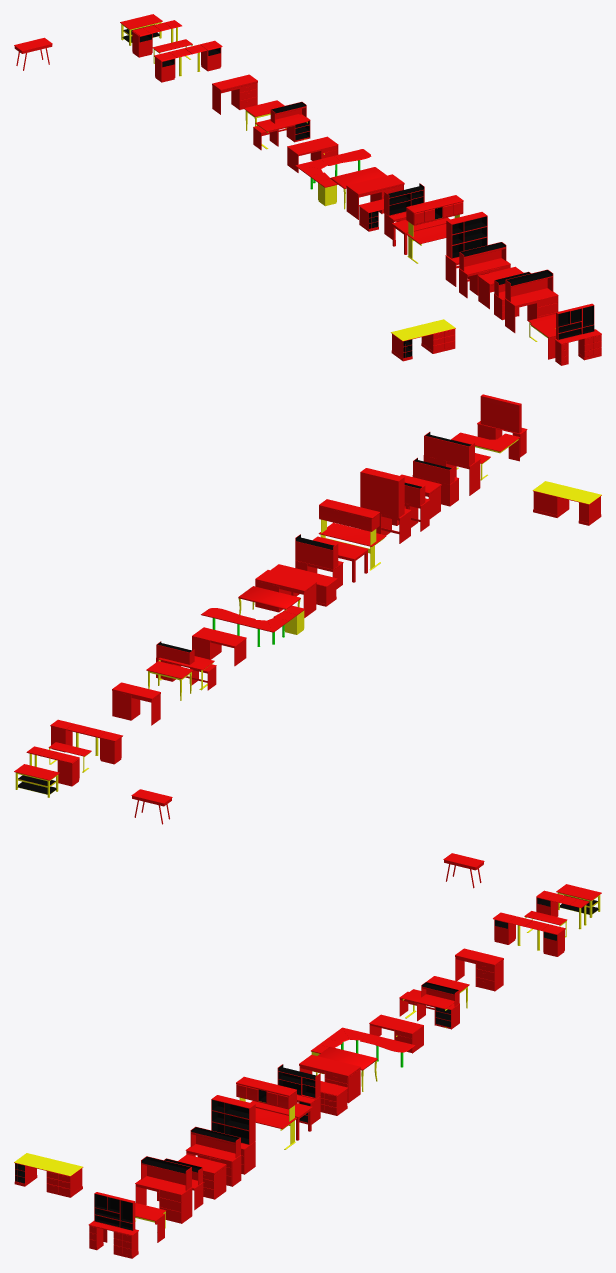
The model's file is desks_grp.fbx.
The picture shows the model from 3 angles, top to bottom: view 1: azimuth 30°, elevation 25°; view 2: azimuth 150°, elevation 25°; view 3: azimuth 330°, elevation 25°; orthographic projection. The views are drawn at different scales.
Parts seen in each view (by area): view 1: desk_304, desk_316, desk_326, desk_310, desk_307_1, desk_204, desk_314, desk_320_1, desk_301, desk_308_1, desk_323, desk_318 (+10 smaller); view 2: desk_310, desk_308_1, desk_204, desk_301, desk_304, desk_316, desk_326, desk_314, desk_323, desk_312, desk_318, desk_305 (+11 smaller); view 3: desk_304, desk_326, desk_310, desk_307_1, desk_204, desk_316, desk_314, desk_301, desk_323, desk_320_1, desk_308_1, desk_318 (+10 smaller).
Boxes of the visible parts, left/top/right/bottom form: desk_304: left=504, top=269, right=558, bottom=332; desk_316: left=295, top=149, right=371, bottom=206; desk_326: left=154, top=40, right=222, bottom=82; desk_310: left=406, top=195, right=463, bottom=263; desk_307_1: left=459, top=242, right=510, bottom=298; desk_204: left=391, top=319, right=455, bottom=361; desk_314: left=346, top=174, right=404, bottom=219; desk_320_1: left=253, top=101, right=310, bottom=150; desk_301: left=554, top=303, right=601, bottom=365; desk_308_1: left=445, top=212, right=487, bottom=286; desk_323: left=212, top=74, right=257, bottom=114; desk_318: left=287, top=136, right=338, bottom=172; desk_310: left=318, top=499, right=386, bottom=570; desk_308_1: left=360, top=468, right=411, bottom=542; desk_204: left=532, top=481, right=601, bottom=525; desk_301: left=477, top=394, right=527, bottom=457; desk_304: left=423, top=432, right=480, bottom=495; desk_316: left=201, top=605, right=305, bottom=646; desk_326: left=50, top=719, right=122, bottom=764; desk_314: left=255, top=570, right=316, bottom=617; desk_323: left=112, top=682, right=160, bottom=725; desk_312: left=295, top=534, right=343, bottom=589; desk_318: left=192, top=627, right=246, bottom=666; desk_305: left=412, top=457, right=458, bottom=506; desk_304: left=135, top=1156, right=192, bottom=1223; desk_326: left=493, top=912, right=565, bottom=956; desk_310: left=236, top=1076, right=297, bottom=1149; desk_307_1: left=185, top=1126, right=241, bottom=1186; desk_204: left=14, top=1153, right=83, bottom=1197; desk_316: left=311, top=1027, right=414, bottom=1073; desk_314: left=299, top=1054, right=360, bottom=1103; desk_301: left=88, top=1192, right=138, bottom=1258; desk_323: left=455, top=948, right=503, bottom=991; desk_320_1: left=399, top=982, right=459, bottom=1029; desk_308_1: left=207, top=1095, right=255, bottom=1174; desk_318: left=369, top=1014, right=423, bottom=1053.
Size of the model in its own units: 625 by 208 by 2852.
